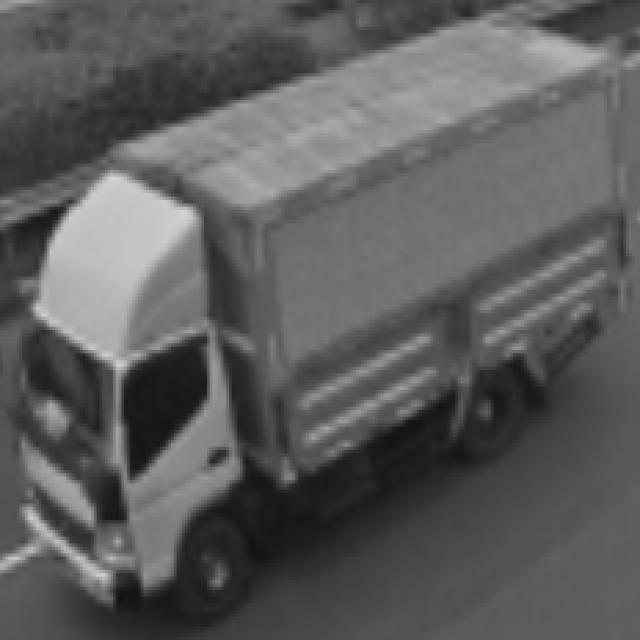truck: (2, 162, 267, 630)
